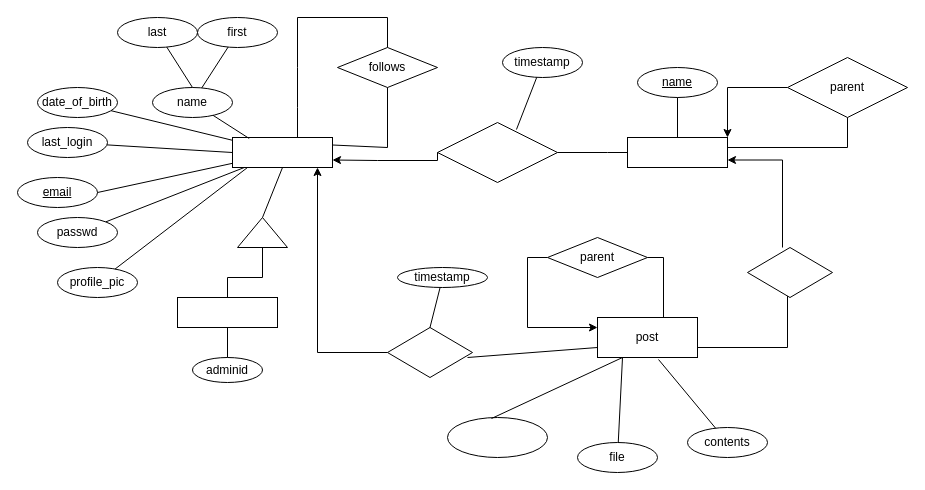
This 925x490 diagram has some shape labels left out. The shapes that lost their labels are listed below. From the top down, each one's box as (x1, y1, x2, y2) in pixels, then its label:
(232, 136, 332, 168): user
(436, 122, 558, 182): creates
(626, 136, 728, 168): topic
(746, 246, 832, 298): contains
(176, 296, 278, 328): admin
(386, 326, 472, 378): posts
(446, 416, 548, 458): postid
